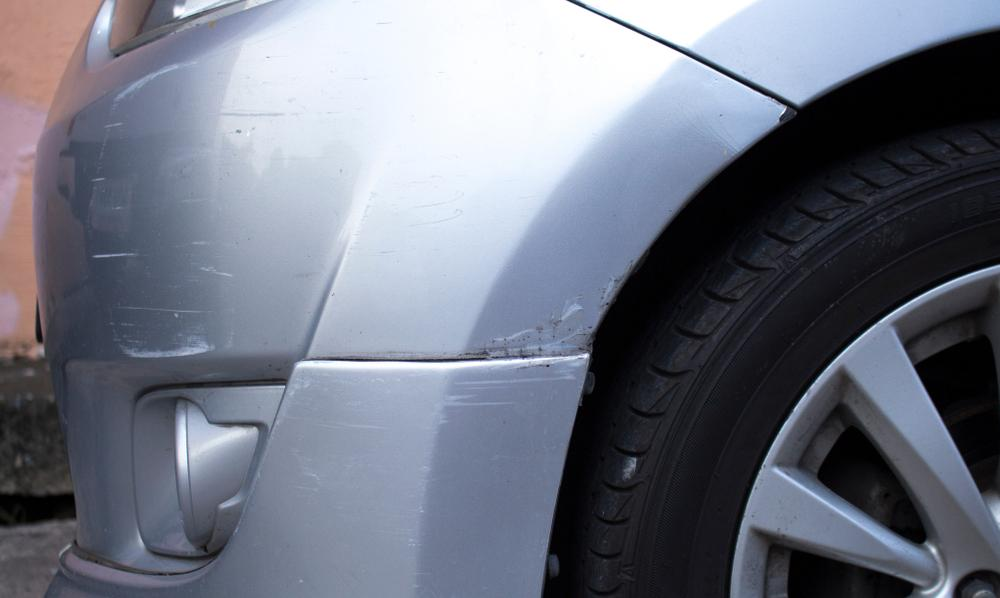scratch: (79, 56, 242, 360), (283, 354, 587, 494)
